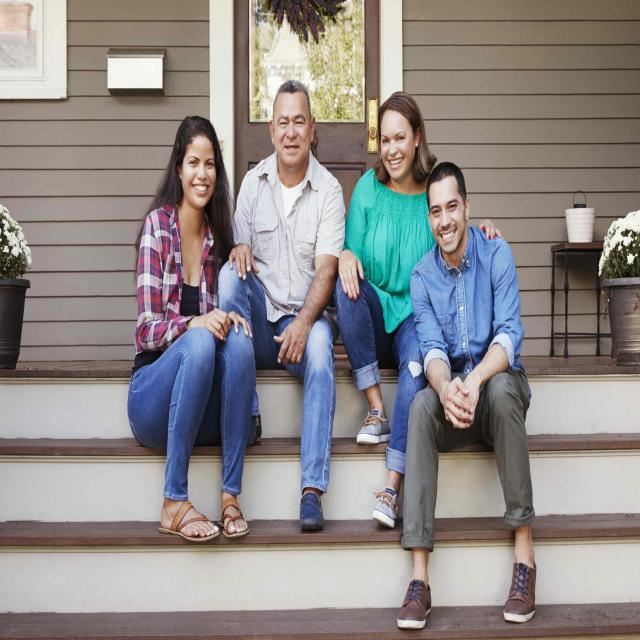adult: (397, 159, 537, 632), (216, 82, 347, 533), (125, 116, 257, 542), (334, 88, 440, 526)
